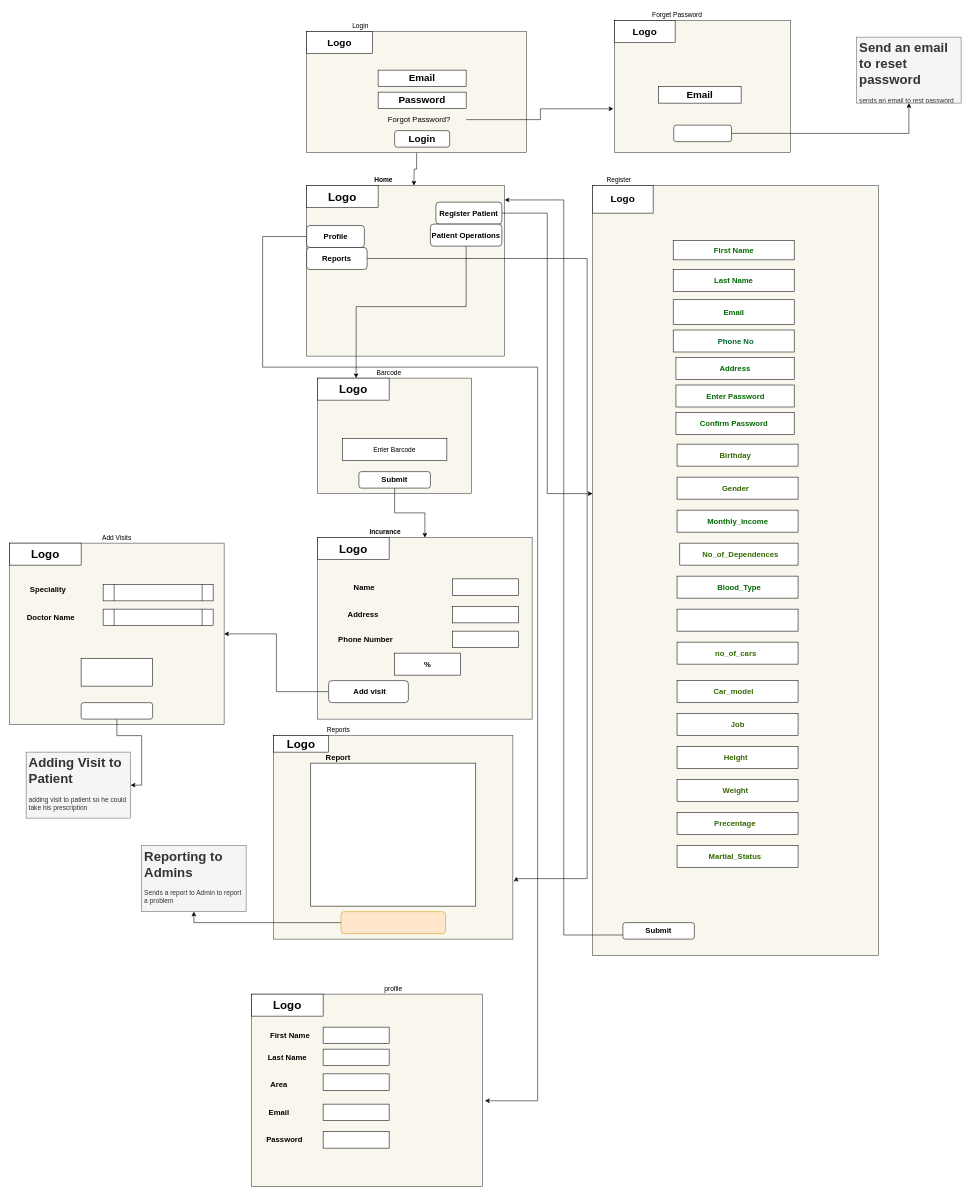
This 971x1196 diagram has some shape labels left out. Each missing label, with the centre of its shape:
"Add" belongs at point (117, 710).
"Continue" belongs at point (702, 133).
"Fee's" belongs at point (117, 672).
"Mobile_Fees" belongs at point (737, 620).
"Send Reports" belongs at point (393, 922).
